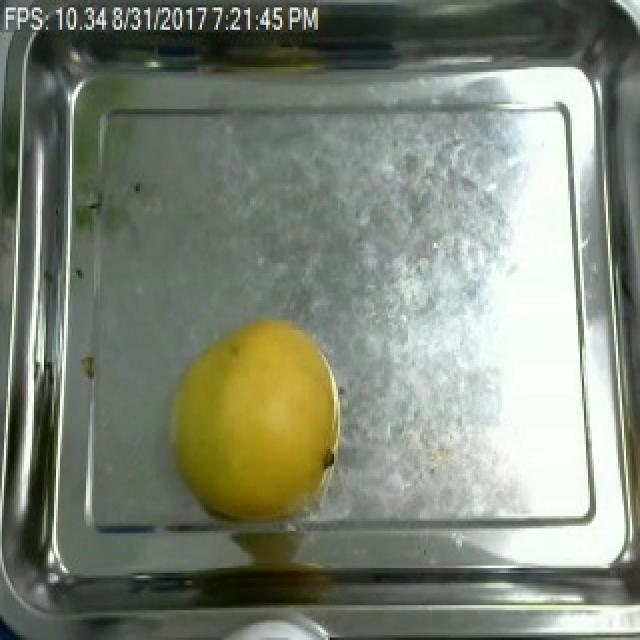fruit: (150, 305, 352, 543)
